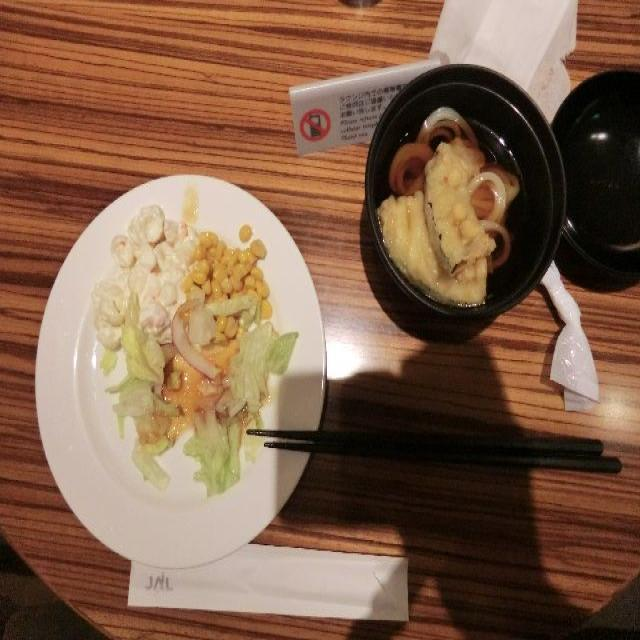Green Salad: (95, 220, 288, 470)
